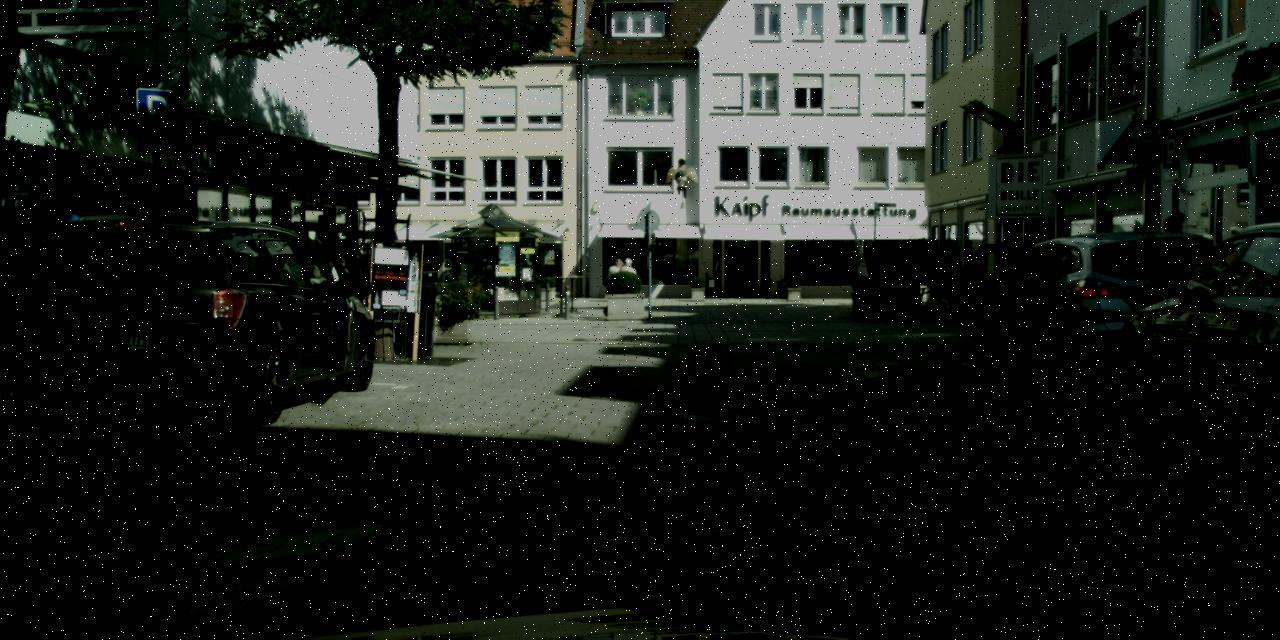ped: (0, 156, 84, 373), (1153, 210, 1198, 321), (285, 225, 327, 330), (614, 257, 638, 317), (602, 258, 625, 316), (331, 258, 350, 308)
